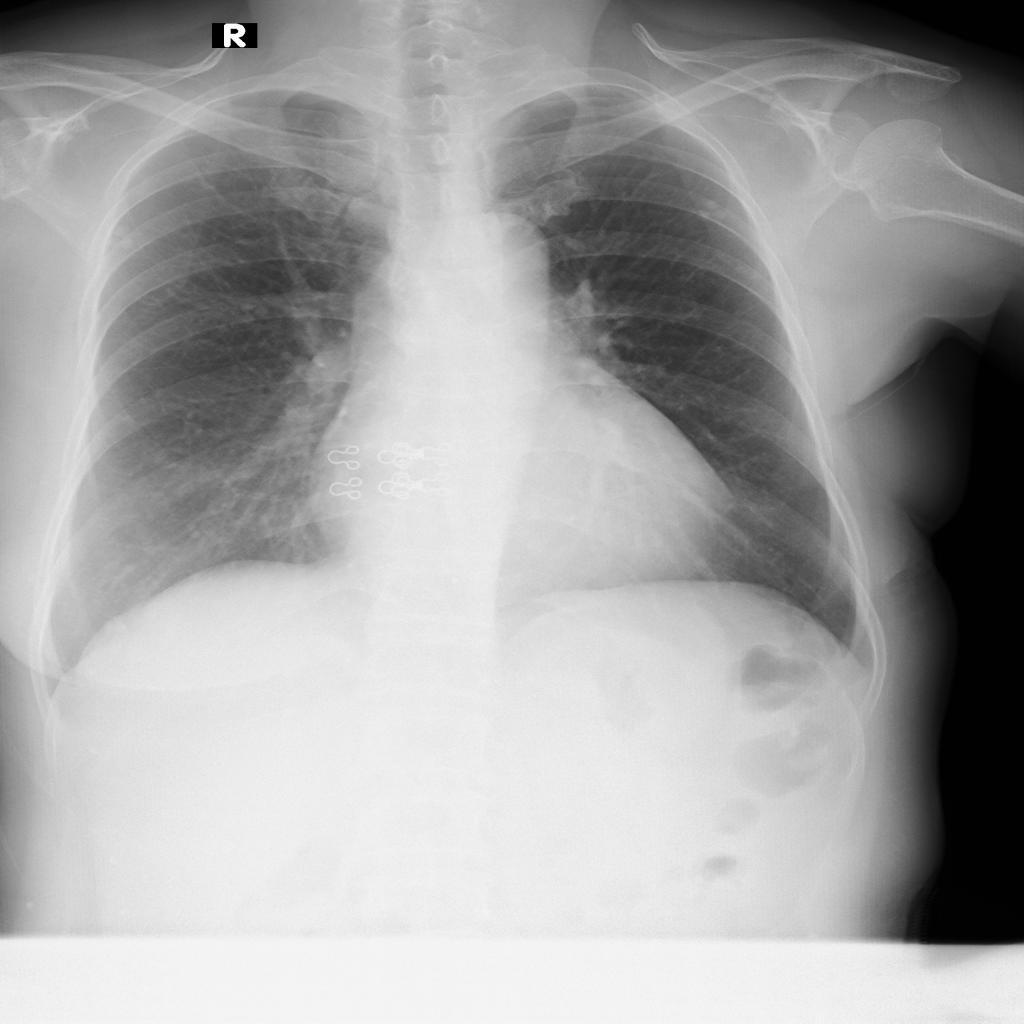Nodule: (107, 225, 138, 254), (694, 200, 731, 222)
